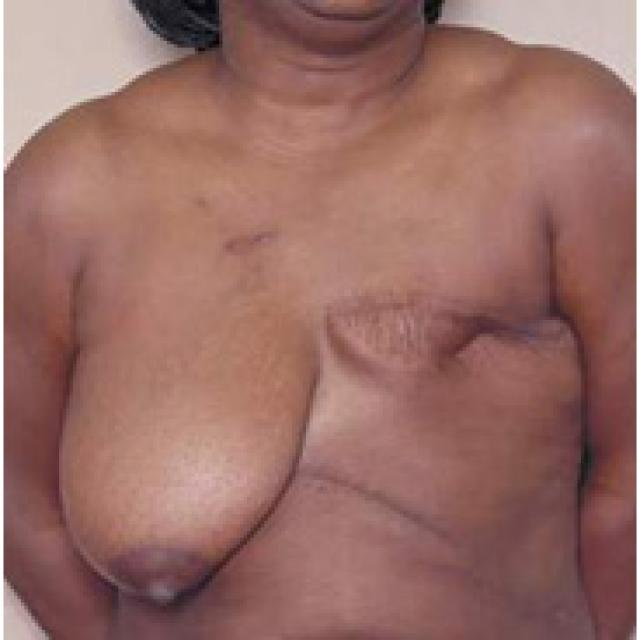Seno herido: (323, 262, 587, 440)
Seno ileso: (50, 283, 317, 628)
